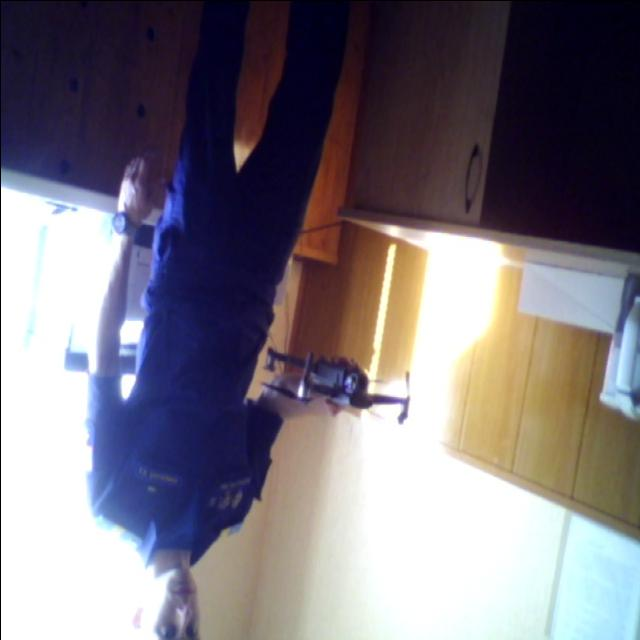drone: (254, 333, 416, 447)
